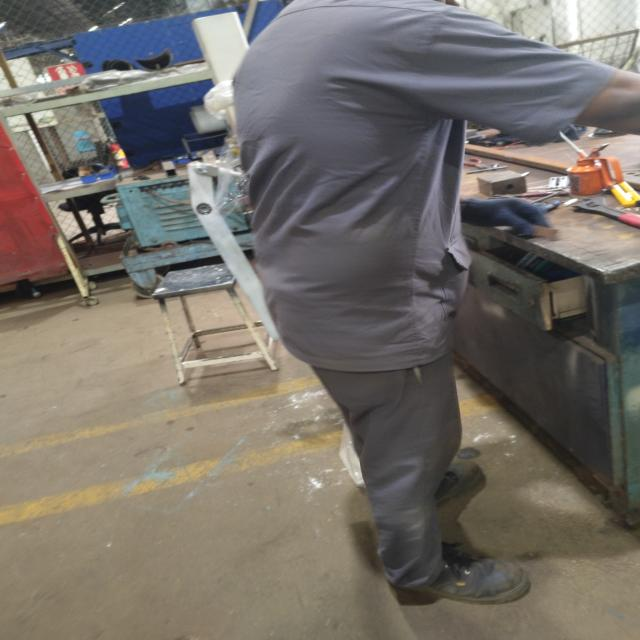Gloves-Detection: (456, 195, 552, 238)
